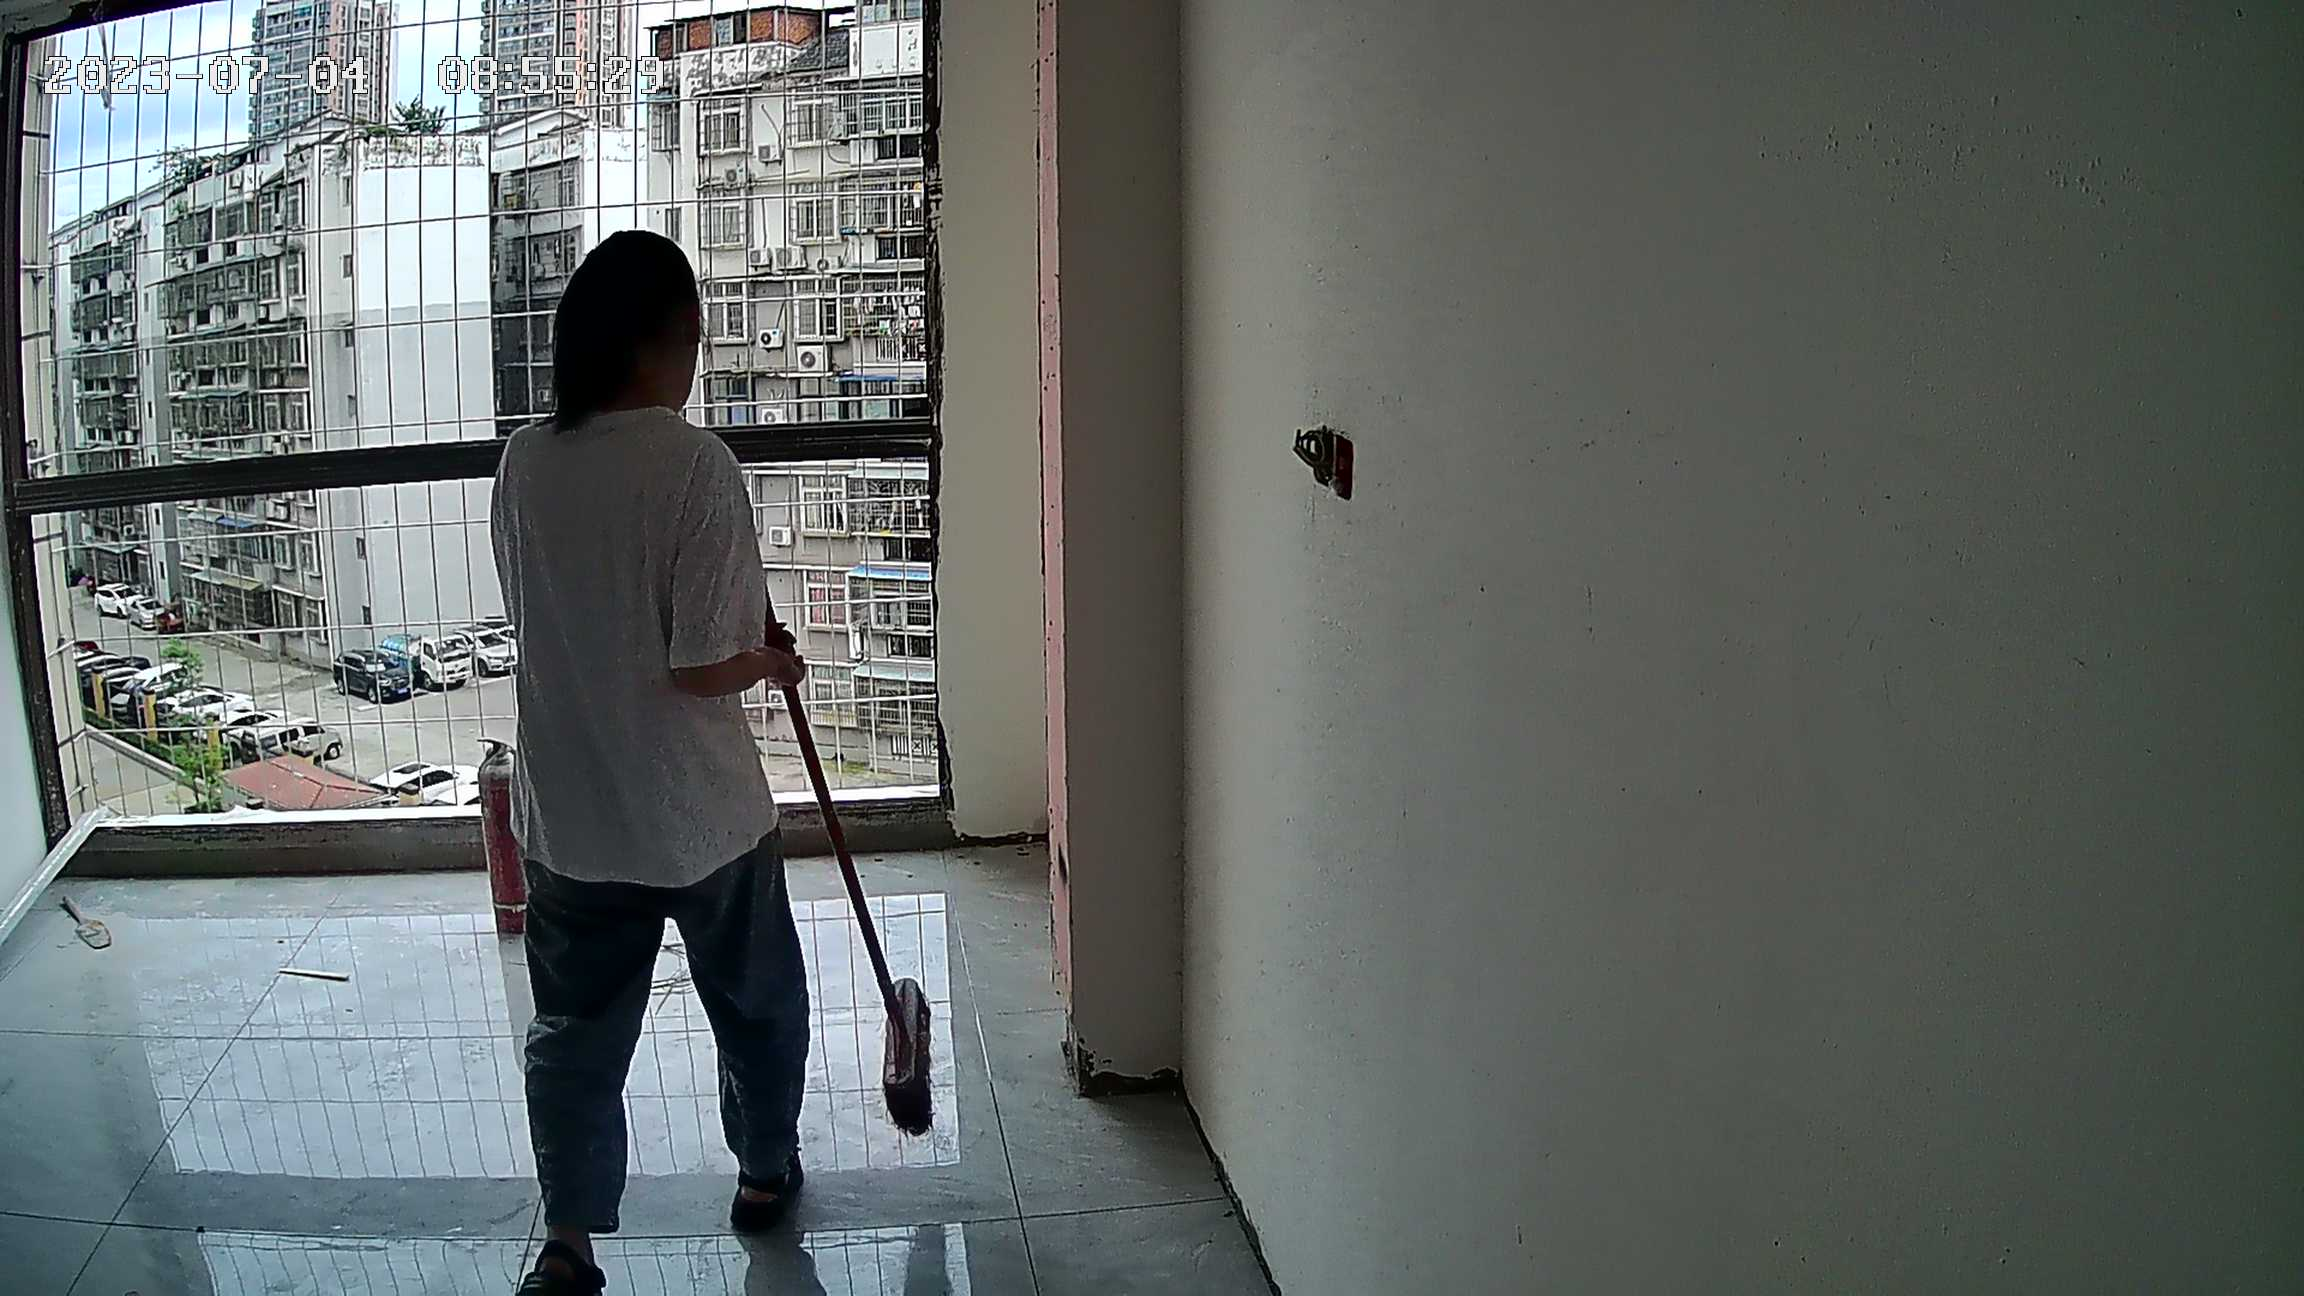people: (466, 234, 881, 1273)
window: (15, 3, 975, 859)
